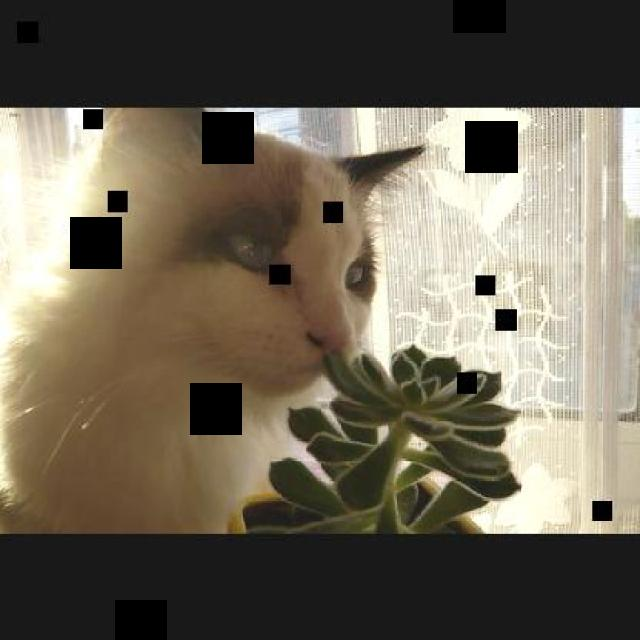unauthorized: (0, 104, 428, 534)
